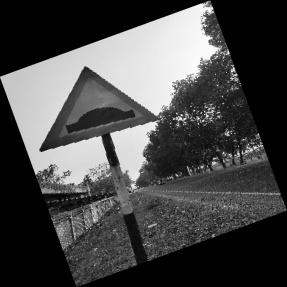Speed-breaker: (39, 66, 159, 150)
